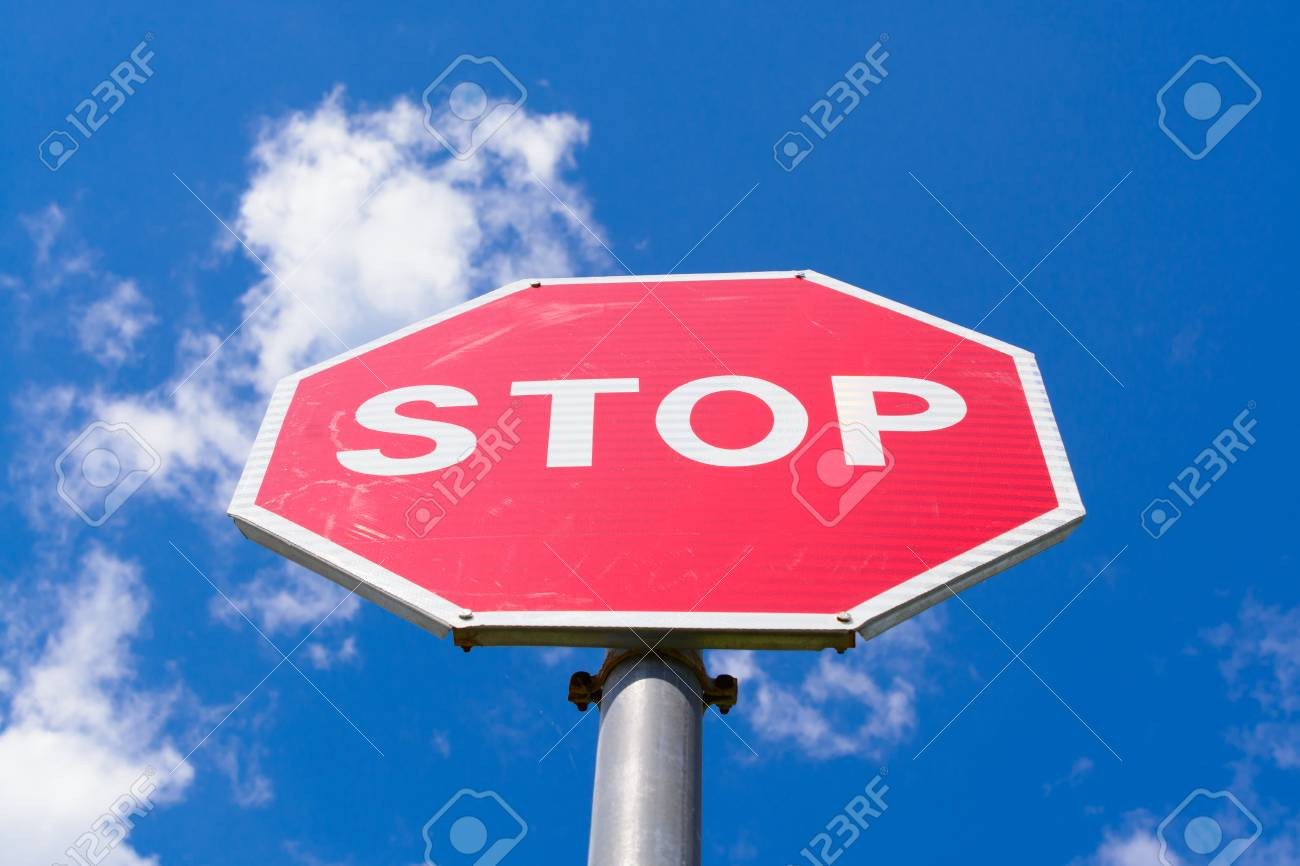stopsign: (233, 269, 1073, 629)
